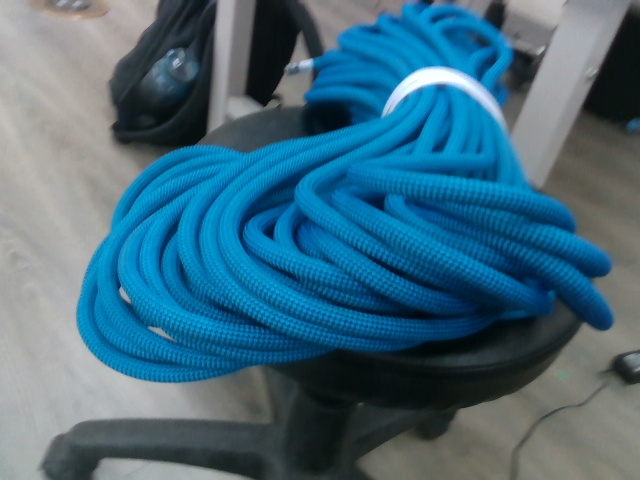rope: (72, 3, 618, 384)
